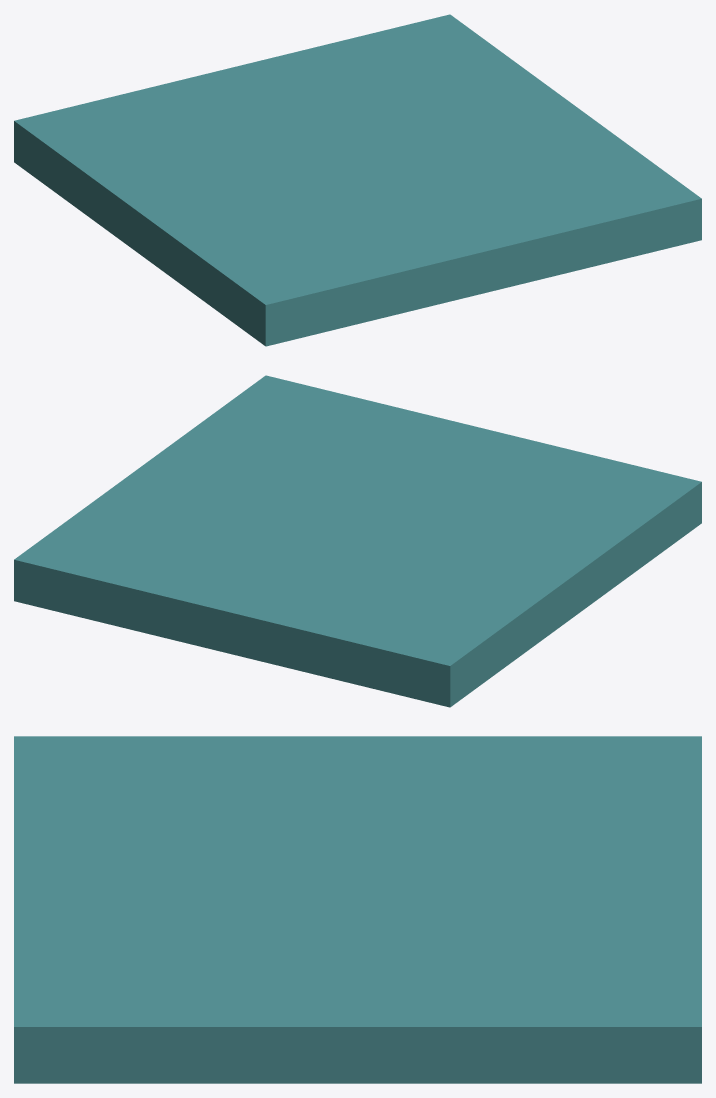
File: Tek Cellar Door.glb
The picture shows the model from 3 angles, top to bottom: view 1: azimuth 30°, elevation 25°; view 2: azimuth 150°, elevation 25°; view 3: azimuth 270°, elevation 25°; orthographic projection. The views are drawn at different scales.
Parts seen in each view (by area): view 1: SM_Tek_DoorCeiling; view 2: SM_Tek_DoorCeiling; view 3: SM_Tek_DoorCeiling.
Boxes of the visible parts, <box> form: SM_Tek_DoorCeiling: <box>14,14,701,346</box>; SM_Tek_DoorCeiling: <box>14,375,701,707</box>; SM_Tek_DoorCeiling: <box>14,736,701,1083</box>.
Size of the model in its own units: 1.1 by 0.1 by 1.1.
